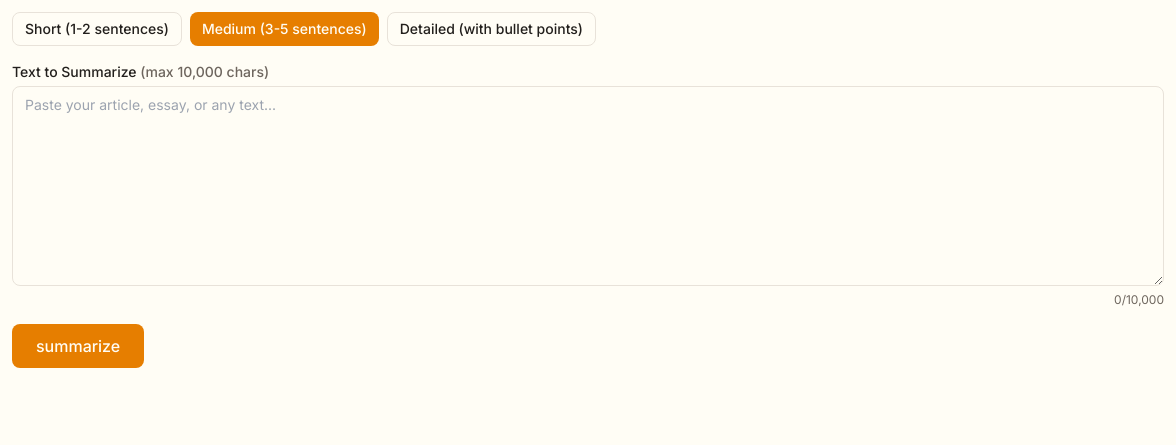
Test: TextSummarizer › shows error for empty input
The width and height of the screenshot is (1176, 445).
Click the button: (78, 346) [12,324,144,368]
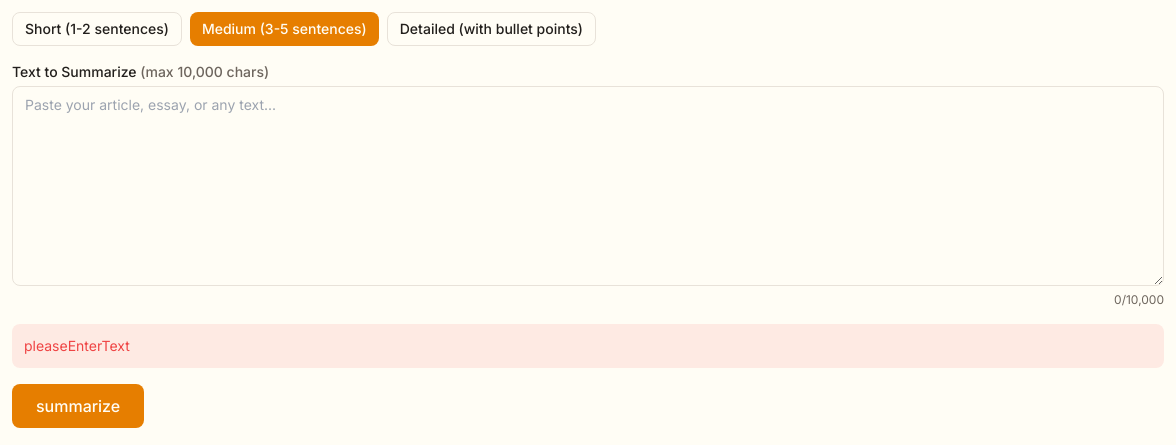
Check: the text "pleaseEnterText" is shown, box [12,324,1164,368]
